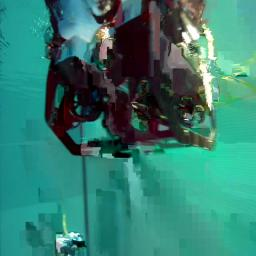Full: (54, 231, 86, 255)
front: (43, 15, 219, 157)
